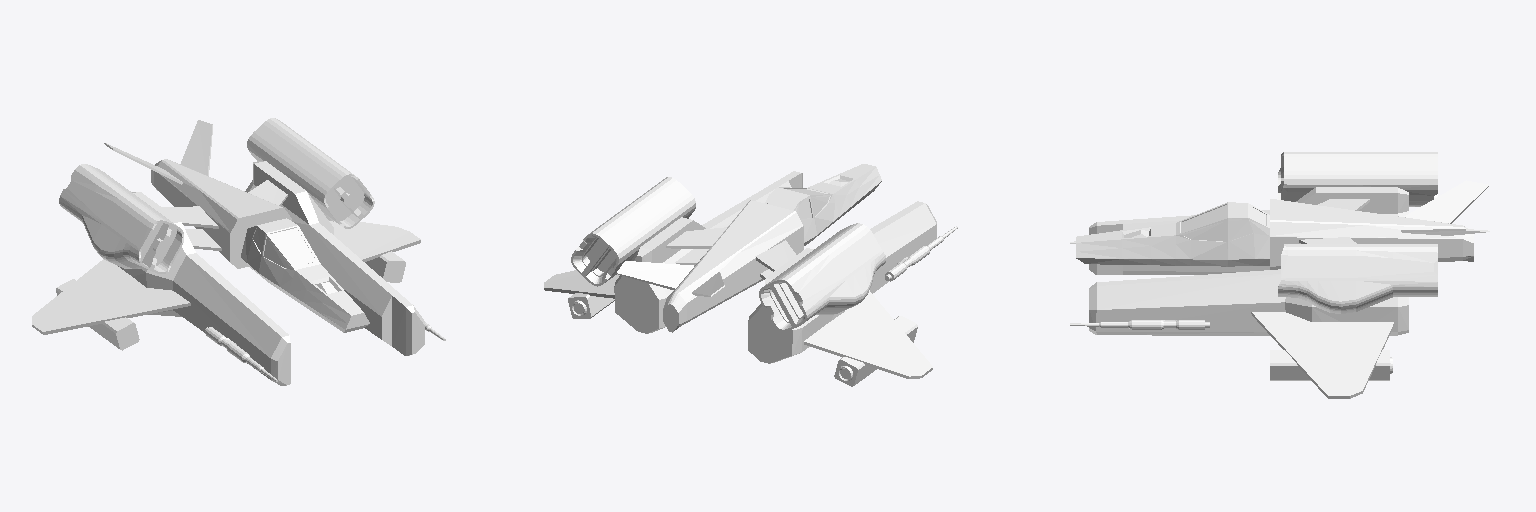
File: Boss_1.obj
3 views of the same model, side by side, from view 1: azimuth 30°, elevation 25°; view 2: azimuth 150°, elevation 25°; view 3: azimuth 270°, elevation 25° (orthographic).
Visible parts, largest first — view 1: Engine1, MainBody13_Mirrored, MainBody13, Wing6_Mirrored, MainBody2, Cockpit3_Body, Wing6, Big_Launcher, Wing2, Wing2_Mirrored, Cockpit3_Glass, Blaster; view 2: Engine1, MainBody2, MainBody13_Mirrored, Wing6_Mirrored, MainBody13, Cockpit3_Body, Wing2, Big_Launcher, Wing2_Mirrored, Wing6, Blaster, Cockpit3_Glass; view 3: Engine1, MainBody13, Cockpit3_Body, Wing6, MainBody2, MainBody13_Mirrored, Wing2_Mirrored, Cockpit3_Glass, Big_Launcher, Blaster, Wing2.
Boxes of the visible parts, <box> form: Engine1: <box>59,118,374,273</box>; MainBody13_Mirrored: <box>118,192,290,385</box>; MainBody13: <box>245,161,424,355</box>; Wing6_Mirrored: <box>32,259,190,334</box>; MainBody2: <box>151,159,291,268</box>; Cockpit3_Body: <box>241,218,369,332</box>; Wing6: <box>329,221,420,261</box>; Big_Launcher: <box>56,251,405,350</box>; Wing2: <box>180,120,287,205</box>; Wing2_Mirrored: <box>104,143,221,250</box>; Cockpit3_Glass: <box>253,228,316,267</box>; Blaster: <box>205,322,445,381</box>; Engine1: <box>571,177,886,331</box>; MainBody2: <box>663,200,803,332</box>; MainBody13_Mirrored: <box>748,201,936,363</box>; Wing6_Mirrored: <box>804,290,932,378</box>; MainBody13: <box>614,171,802,333</box>; Cockpit3_Body: <box>765,164,881,245</box>; Wing2: <box>616,227,726,289</box>; Big_Launcher: <box>568,293,917,386</box>; Wing2_Mirrored: <box>692,240,795,296</box>; Wing6: <box>544,270,619,298</box>; Blaster: <box>885,226,957,281</box>; Cockpit3_Glass: <box>768,189,829,218</box>; Engine1: <box>1278,152,1437,313</box>; MainBody13: <box>1089,269,1408,335</box>; Cockpit3_Body: <box>1076,202,1269,266</box>; Wing6: <box>1251,312,1394,398</box>; MainBody2: <box>1270,199,1473,269</box>; MainBody13_Mirrored: <box>1089,187,1408,274</box>; Wing2_Mirrored: <box>1318,180,1488,223</box>; Cockpit3_Glass: <box>1181,205,1265,241</box>; Big_Launcher: <box>1270,350,1392,380</box>; Blaster: <box>1070,241,1209,329</box>; Wing2: <box>1299,229,1489,243</box>.
Size of the model in its own units: 13.02 by 3.74 by 12.49.